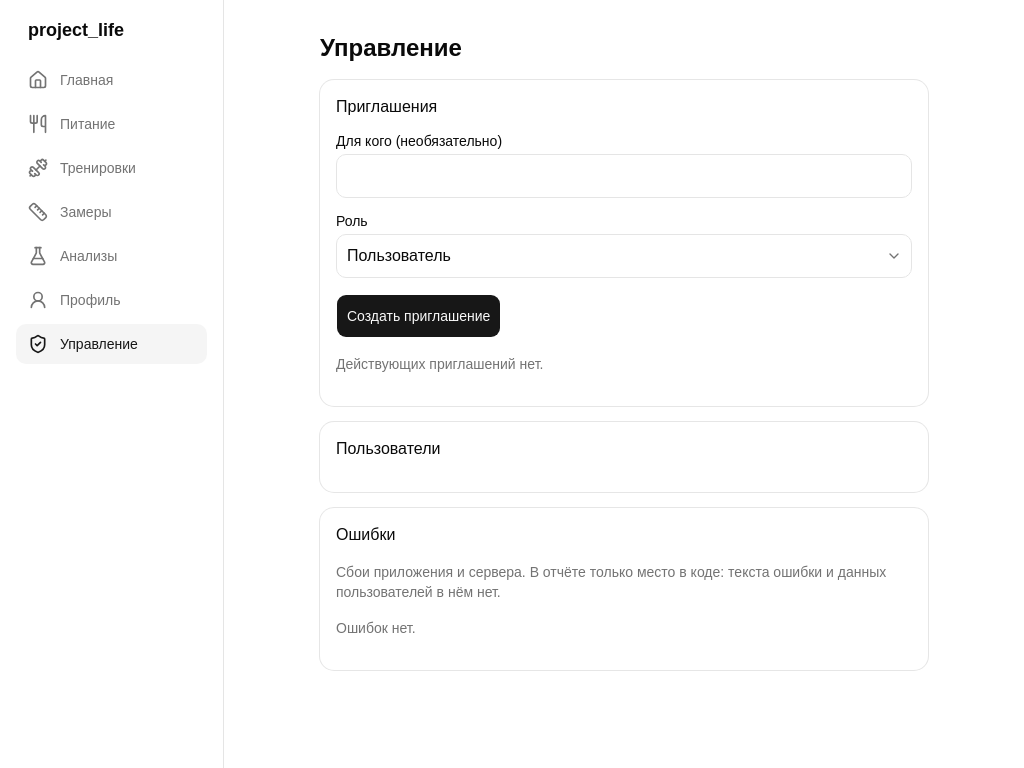
Scenario: приглашения › приглашение администратора уходит с ролью и без пометки
Select "Администратор" in the dropdown labelled "Роль" at (624, 256), box [336,234,912,278]
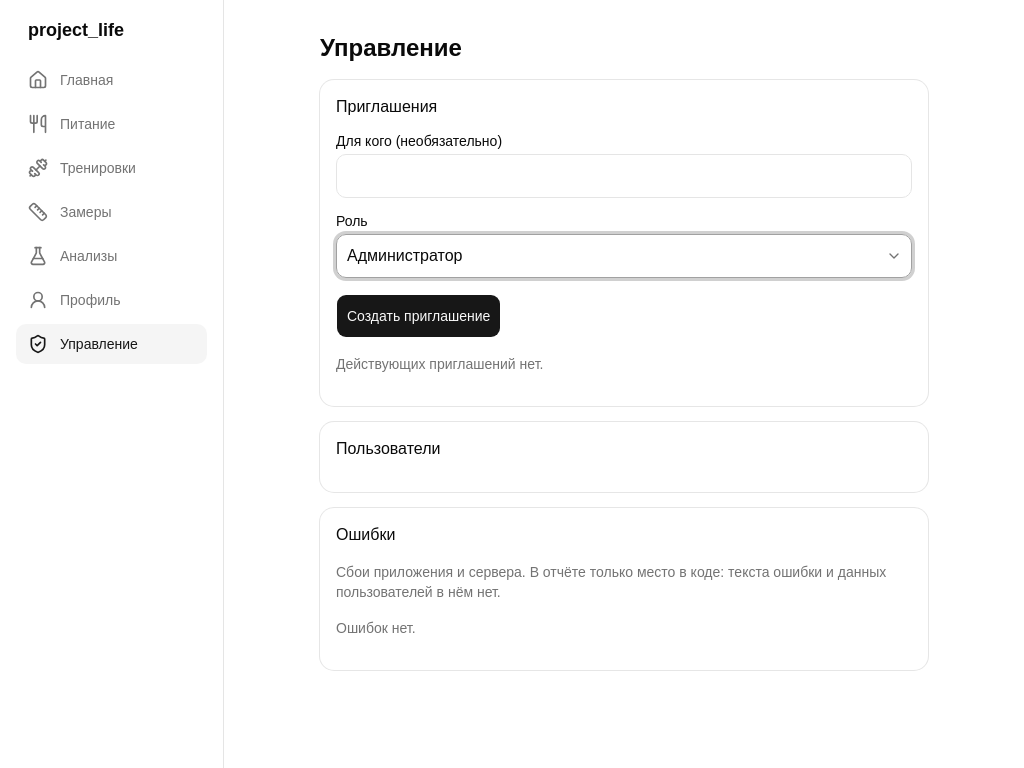
Click the button "Создать приглашение" at (419, 316), box [336,294,501,338]
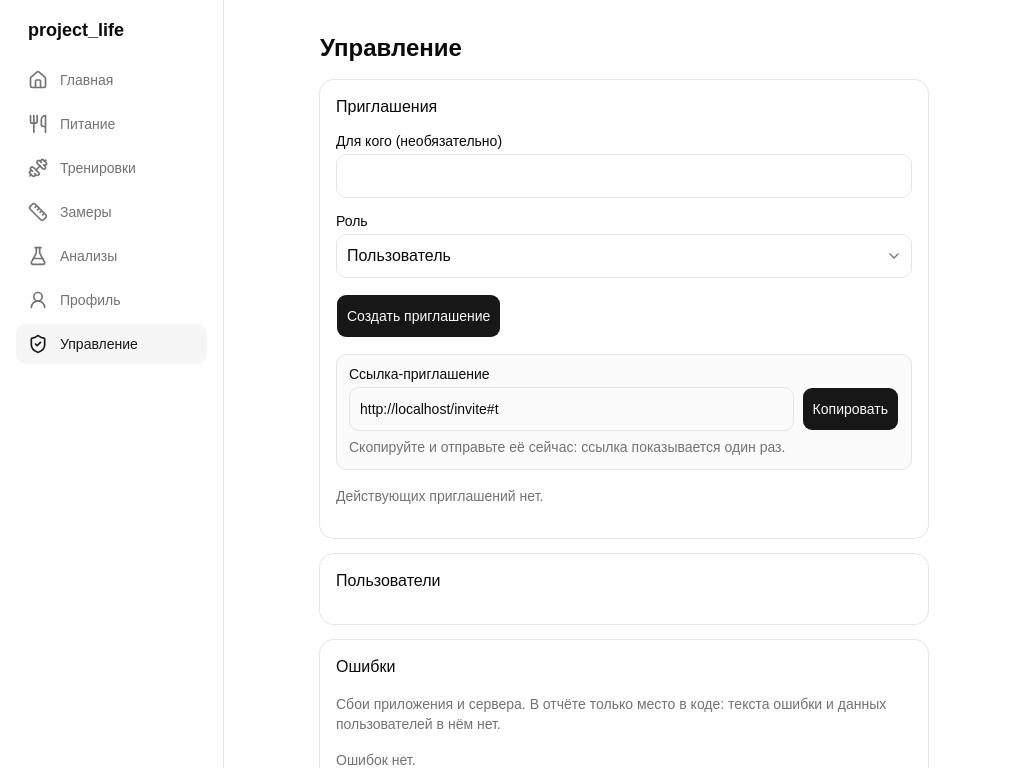
Expected: the field labelled "Ссылка-приглашение" is shown, [349,387,794,431]
